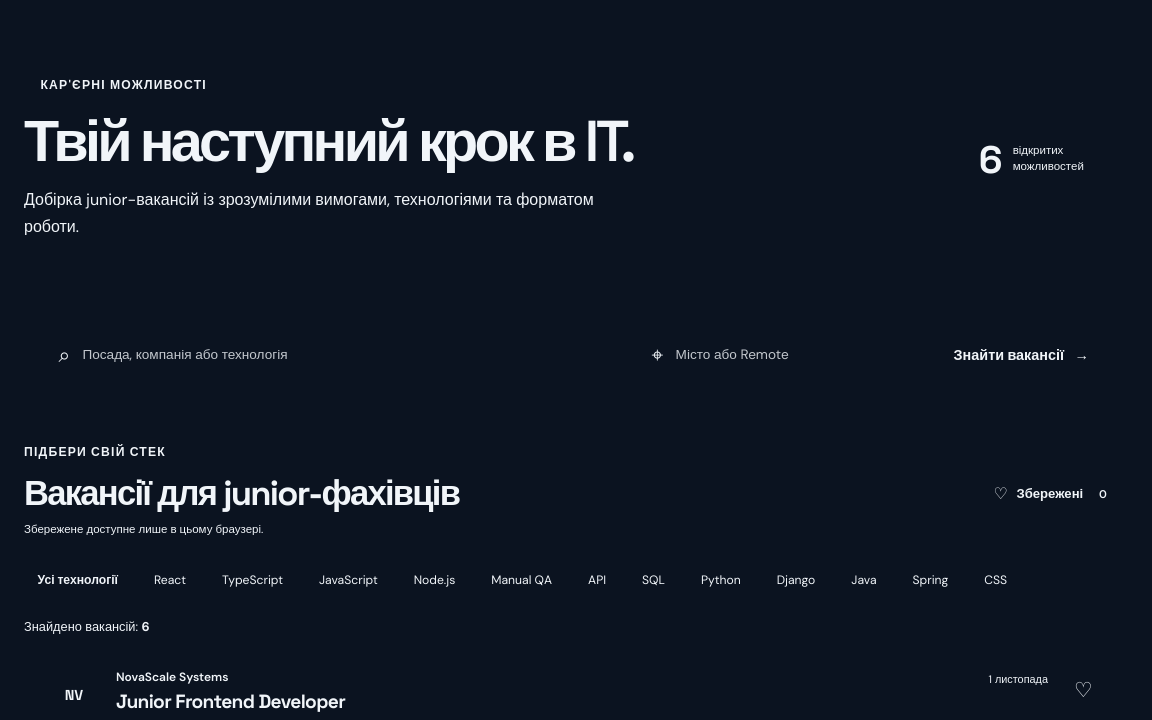
it: VacanciesPage › filters static vacancies by search query and location
This screenshot has width=1152, height=720.
Expected: the heading "Junior Frontend Developer" is shown, [116,689,345,714]
Type "React" into the search field named "Посада, компанія або технологія". click: (346,355)
box: [80,345,611,364]
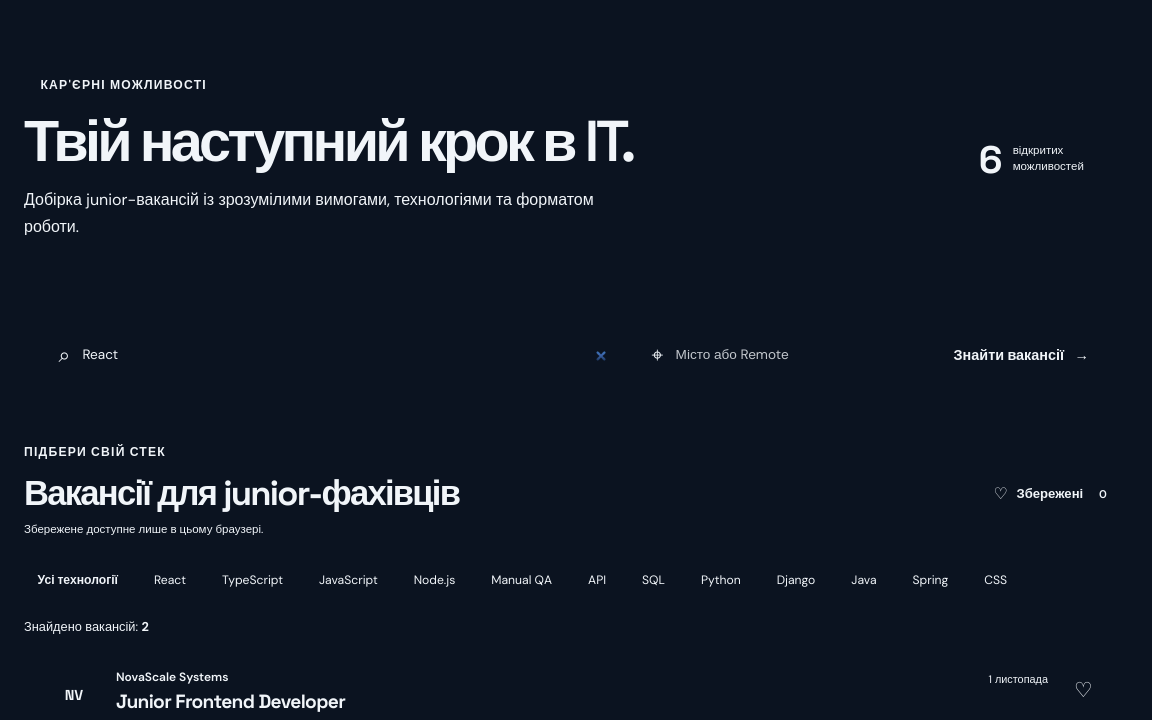
Expected: the heading "Junior Frontend Developer" is shown, [116,689,345,714]
Expected: the text "Junior Node.js Developer" is not shown
Clear the search field named "Посада, компанія або технологія". click: (346,355)
box: [80,345,611,364]
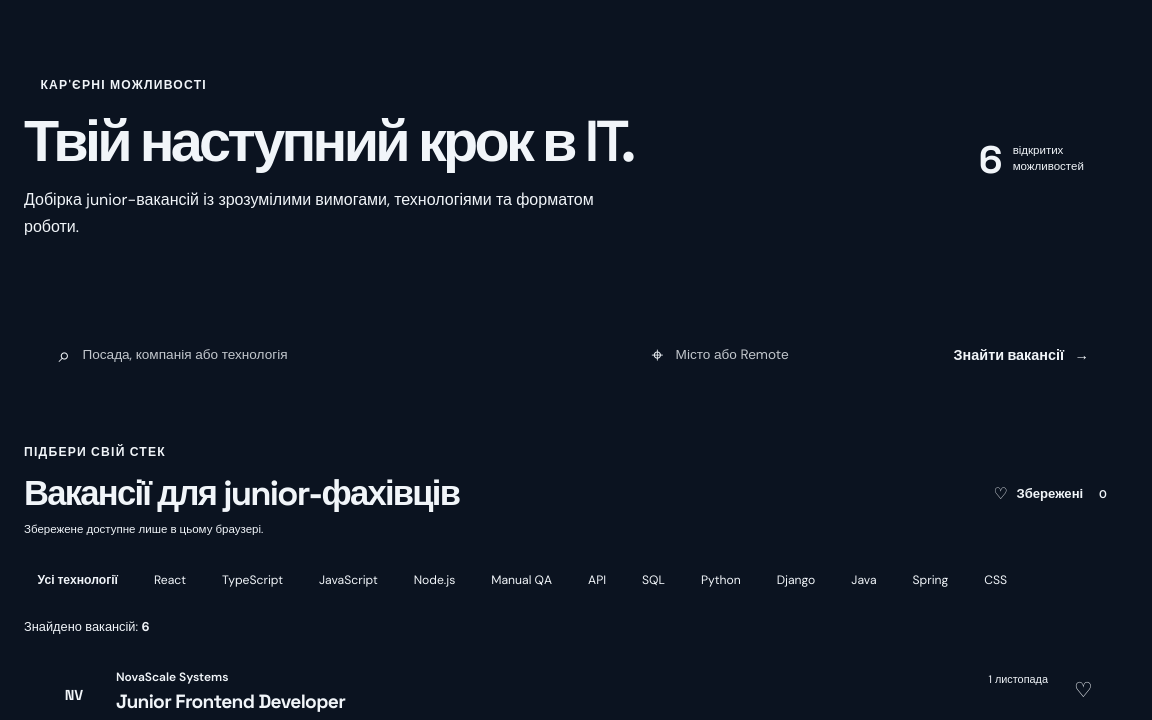
Type "Львів" into the search field named "Місто або формат роботи". click: (793,355)
box: [674,345,912,364]
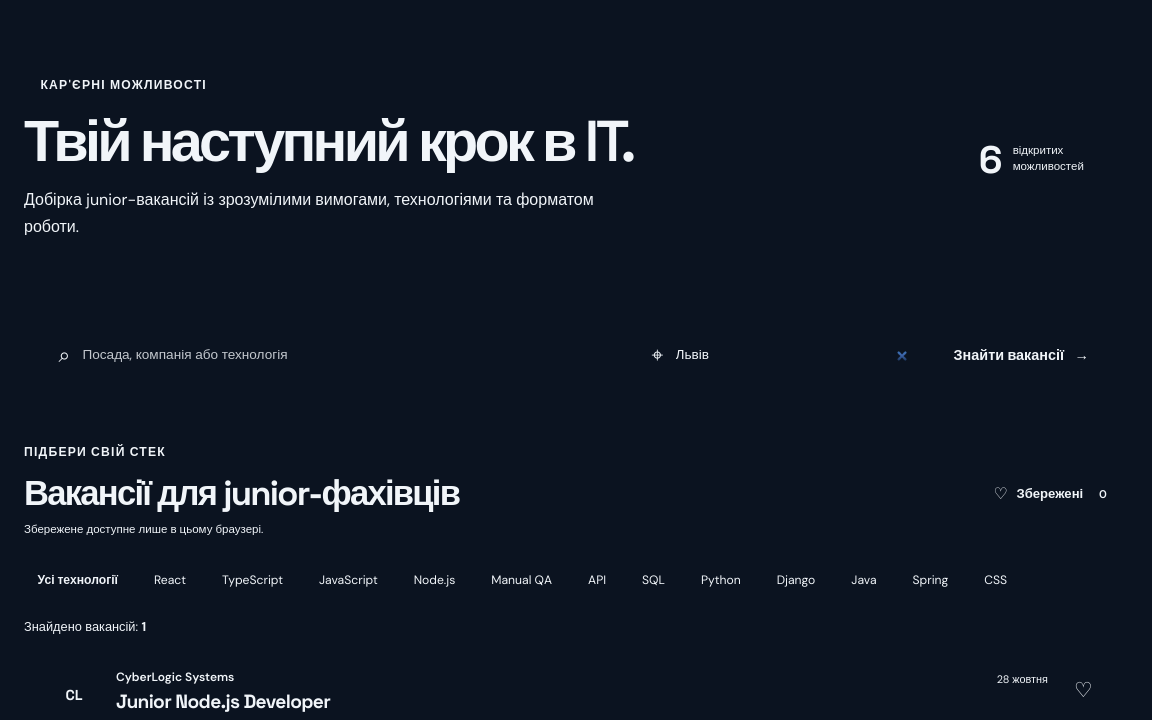
Result: the heading "Junior Node.js Developer" is shown at [116,689,330,714]
Result: the heading "Junior Frontend Developer" is gone
